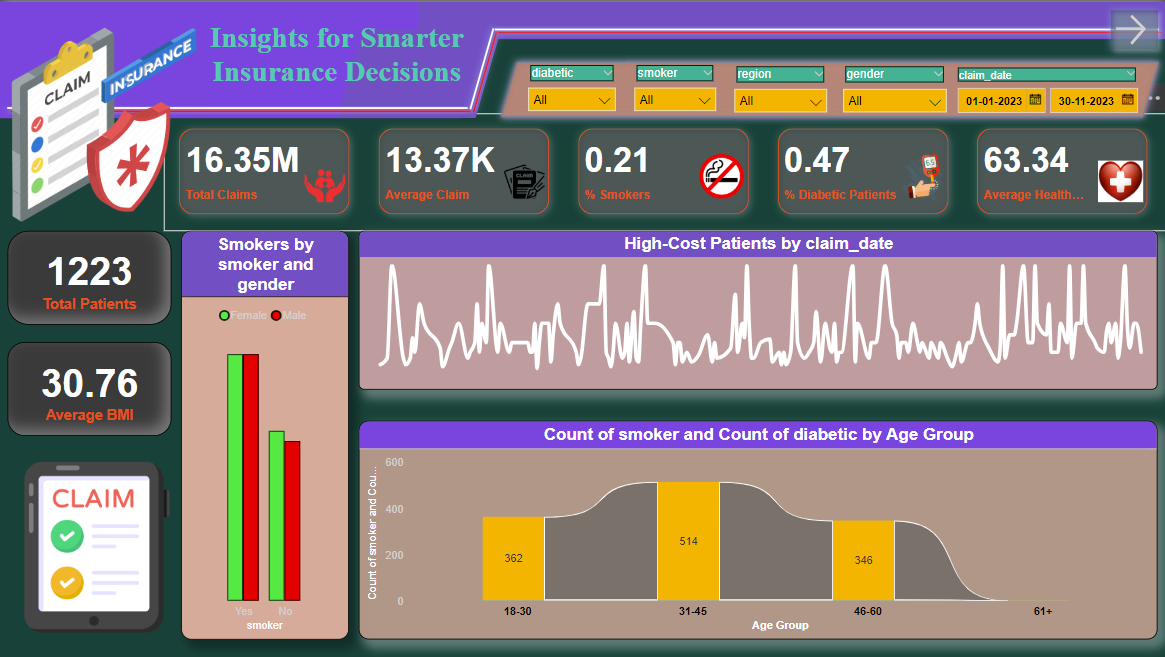

What the dashboard file says about the page in this screenshot:
{"tool":"powerbi","page":{"name":" Page 2","canvas":[1280,720],"ordinal":2},"visuals":[{"type":"cardVisual","fields":{"Data":["insurance_data.Total Claims","insurance_data.Average Claim","gender_smoker_health_summary.% Smokers","insurance_data.% Diabetic Patients","insurance_data.Average Health Risk"]},"box":[179.5,122.1,1100.5,129],"z":0},{"type":"card","fields":{"Values":["insurance_data.Average BMI"]},"box":[8.2,373.2,179.8,102.9],"z":1000},{"type":"card","fields":{"Values":["insurance_data.Total Patients"]},"box":[8.2,251.1,179.8,102.9],"z":2000},{"type":"shape","box":[542,57.6,738.3,76.8],"z":3000},{"type":"slicer","fields":{"Values":["insurance_data.region"]},"box":[795.9,65.9,122.1,61.7],"z":4000},{"type":"slicer","fields":{"Values":["insurance_data.gender"]},"box":[915,66.2,133.8,61.2],"z":5000},{"type":"slicer","fields":{"Values":["insurance_data.claim_date"]},"box":[1038.8,67.2,220.9,64.5],"z":6000},{"type":"slicer","fields":{"Values":["gender_smoker_health_summary.smoker"]},"box":[686.1,64.5,109.8,61.7],"z":7000},{"type":"slicer","fields":{"Values":["insurance_data.diabetic"]},"box":[569.5,64.5,116.6,60.4],"z":8000},{"type":"shape","box":[0,0,506.3,127.6],"z":9000},{"type":"shape","box":[459.7,0,820.6,41.2],"z":10000},{"type":"shape","box":[370.5,30.2,179.8,97.4],"z":11000},{"type":"shape","box":[0,108.4,521.4,15.1],"z":12000},{"type":"shape","box":[500.9,20.6,56.3,105.7],"z":13000},{"type":"shape","box":[534.9,20.6,745.1,19.2],"z":14000},{"type":"image","box":[0,6.9,229.2,255.2],"z":15000},{"type":"textbox","box":[179.8,15.1,380.1,93.3],"z":16000},{"type":"clusteredColumnChart","title":"Smokers by smoker and gender","fields":{"Series":["insurance_data.gender"],"Category":["insurance_data.smoker"],"Y":["insurance_data.% High_Cost Patients"]},"box":[199,251.1,183.9,448.7],"z":17000},{"type":"lineChart","title":"High-Cost Patients by claim_date","fields":{"Category":["insurance_data.claim_date"],"Y":["insurance_data.% High-Cost Patients"]},"box":[393.8,251.1,876.8,174.3],"z":18000},{"type":"ribbonChart","fields":{"Category":["insurance_data.Age Group"],"Y":["CountNonNull(smoker_analysis.smoker)","CountNonNull(insurance_data.diabetic)"]},"box":[393.8,459.7,876.8,240.1],"z":19000},{"type":"image","box":[0,476.2,212.7,244.3],"z":20000},{"type":"actionButton","box":[1210,0,70,61.2],"z":21000}]}

Visuals, with their boxes in screenshot pixels (x1, y1, x2, y2), scaled from the page's 1280x720 canvas onto the 1165x657 screenshot:
cardVisual - insurance_data.Total Claims x insurance_data.Average Claim: (163,111,1164,229)
card - insurance_data.Average BMI: (7,341,171,434)
card - insurance_data.Total Patients: (7,229,171,323)
shape: (493,53,1164,123)
slicer - insurance_data.region: (724,60,836,116)
slicer - insurance_data.gender: (833,60,955,116)
slicer - insurance_data.claim_date: (945,61,1147,120)
slicer - gender_smoker_health_summary.smoker: (624,59,724,115)
slicer - insurance_data.diabetic: (518,59,624,114)
shape: (0,0,461,116)
shape: (418,0,1164,38)
shape: (337,28,501,116)
shape: (0,99,475,113)
shape: (456,19,507,115)
shape: (487,19,1164,36)
image: (0,6,209,239)
textbox: (164,14,510,99)
"Smokers by smoker and gender" clusteredColumnChart: (181,229,348,639)
"High-Cost Patients by claim_date" lineChart: (358,229,1156,388)
ribbonChart - insurance_data.Age Group x CountNonNull(smoker_analysis.smoker): (358,419,1156,639)
image: (0,435,194,656)
actionButton: (1101,0,1164,56)
